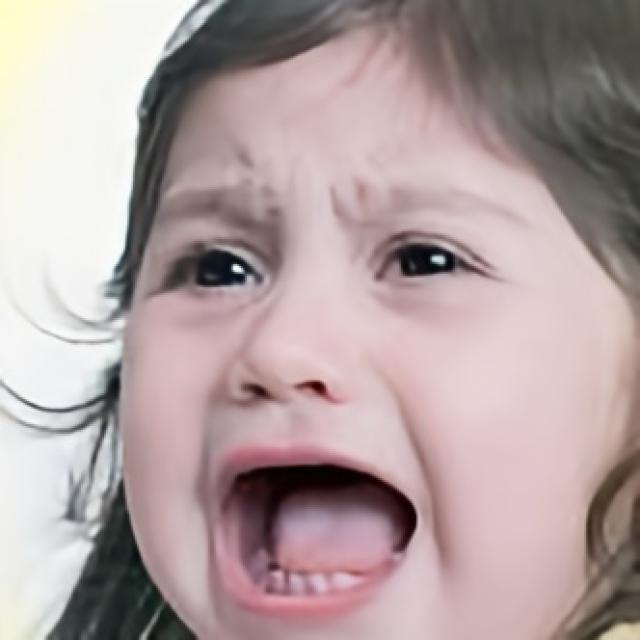fear: (123, 32, 574, 634)
